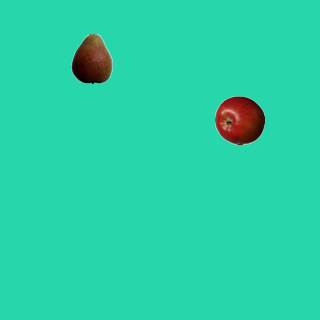Apple Braeburn: (214, 95, 264, 145)
Pear Forelle: (66, 33, 116, 83)
